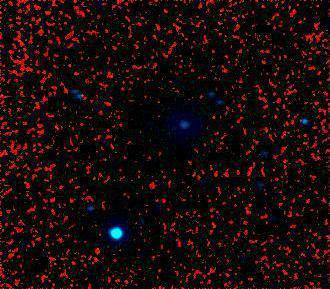star: (242, 168, 272, 198)
